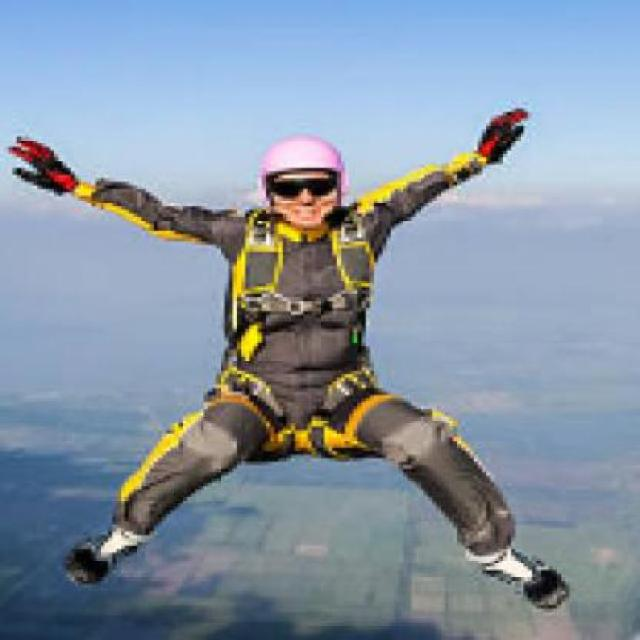fall: (6, 116, 582, 613)
